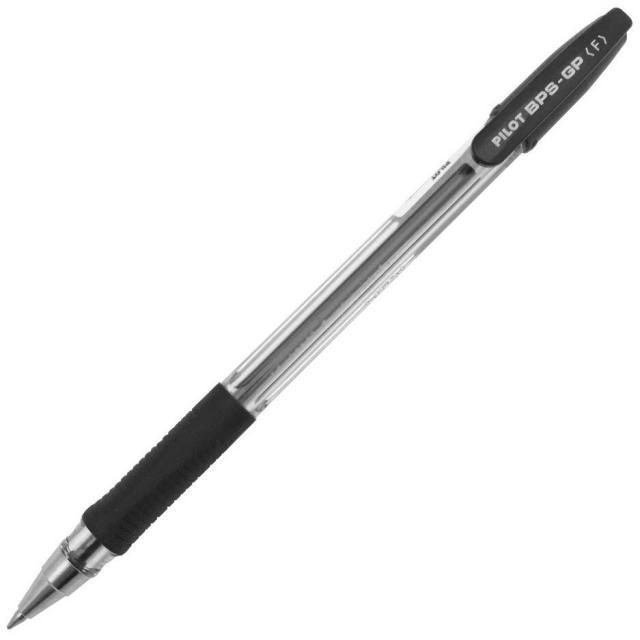pencil: (0, 0, 632, 633)
